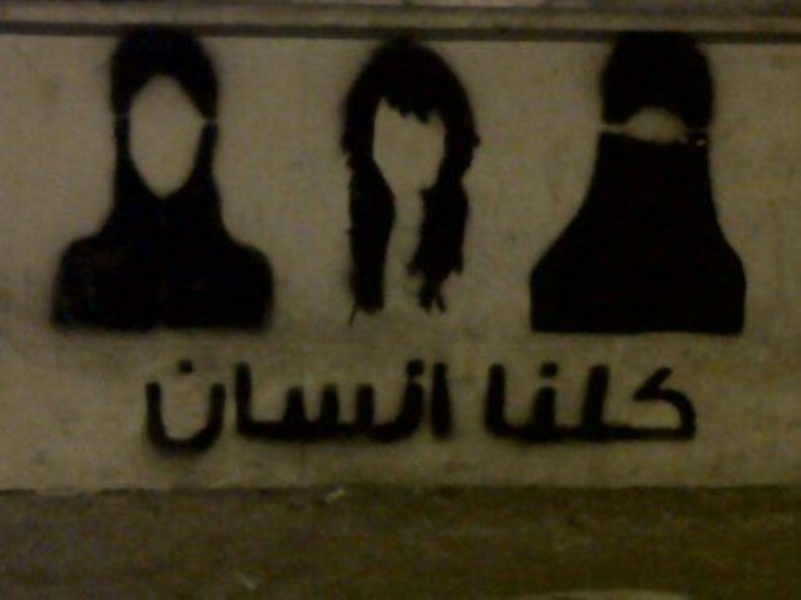text: (145, 352, 160, 460), (161, 352, 176, 460), (177, 352, 192, 460), (193, 352, 208, 460), (209, 352, 224, 460), (225, 352, 240, 460), (241, 352, 256, 460), (257, 352, 272, 460), (273, 352, 288, 460), (289, 352, 304, 460), (305, 352, 320, 460), (321, 352, 336, 460), (337, 352, 352, 460), (353, 352, 368, 460), (369, 352, 384, 460), (385, 352, 400, 460), (401, 352, 416, 460), (417, 352, 432, 460), (433, 352, 448, 460), (481, 359, 496, 448), (497, 359, 512, 448), (513, 359, 528, 448), (529, 359, 544, 448), (545, 359, 560, 448), (561, 359, 576, 448), (577, 359, 592, 448), (593, 359, 608, 448), (609, 359, 624, 448), (625, 359, 640, 448), (641, 359, 656, 448), (657, 359, 672, 448), (673, 359, 688, 448), (689, 359, 700, 448), (449, 352, 455, 460), (140, 352, 144, 460)
